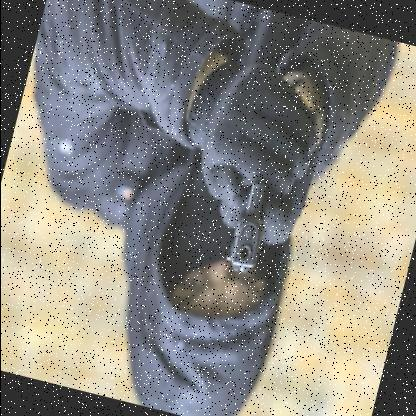rifle: (220, 156, 283, 283)
